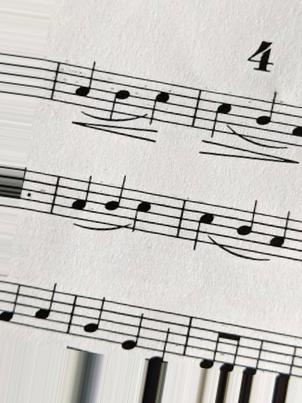note: (250, 88, 282, 147), (234, 197, 265, 256), (69, 56, 100, 110), (204, 90, 237, 139), (266, 207, 293, 260), (127, 187, 156, 236), (101, 173, 128, 225), (32, 281, 60, 331), (119, 304, 148, 352), (190, 200, 217, 251), (102, 72, 133, 116), (144, 79, 172, 127), (68, 172, 94, 220), (83, 293, 106, 341), (1, 281, 22, 325)
